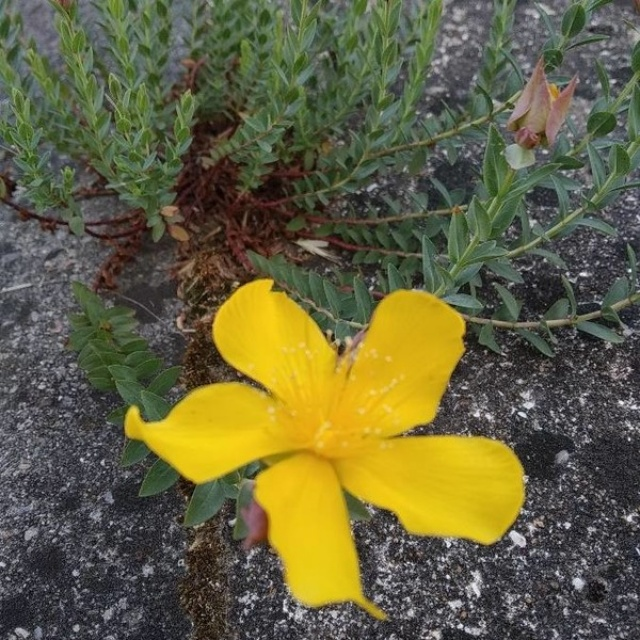obstacle: (139, 284, 518, 608), (17, 26, 541, 247)
